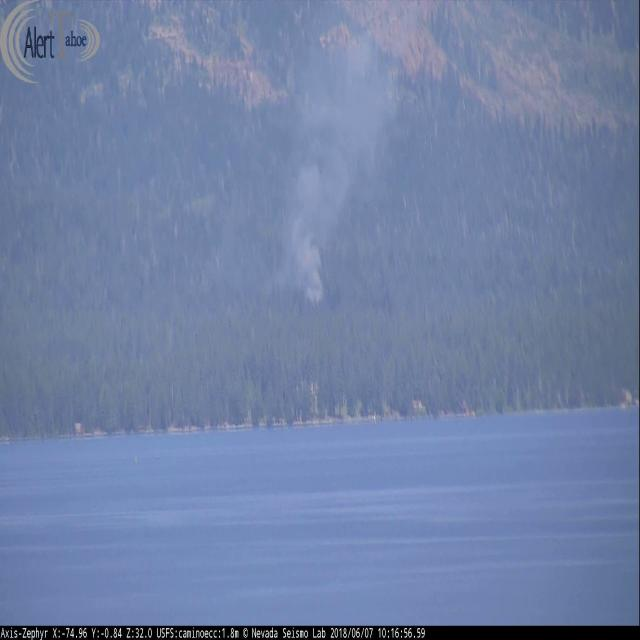smoke: (288, 36, 406, 308)
